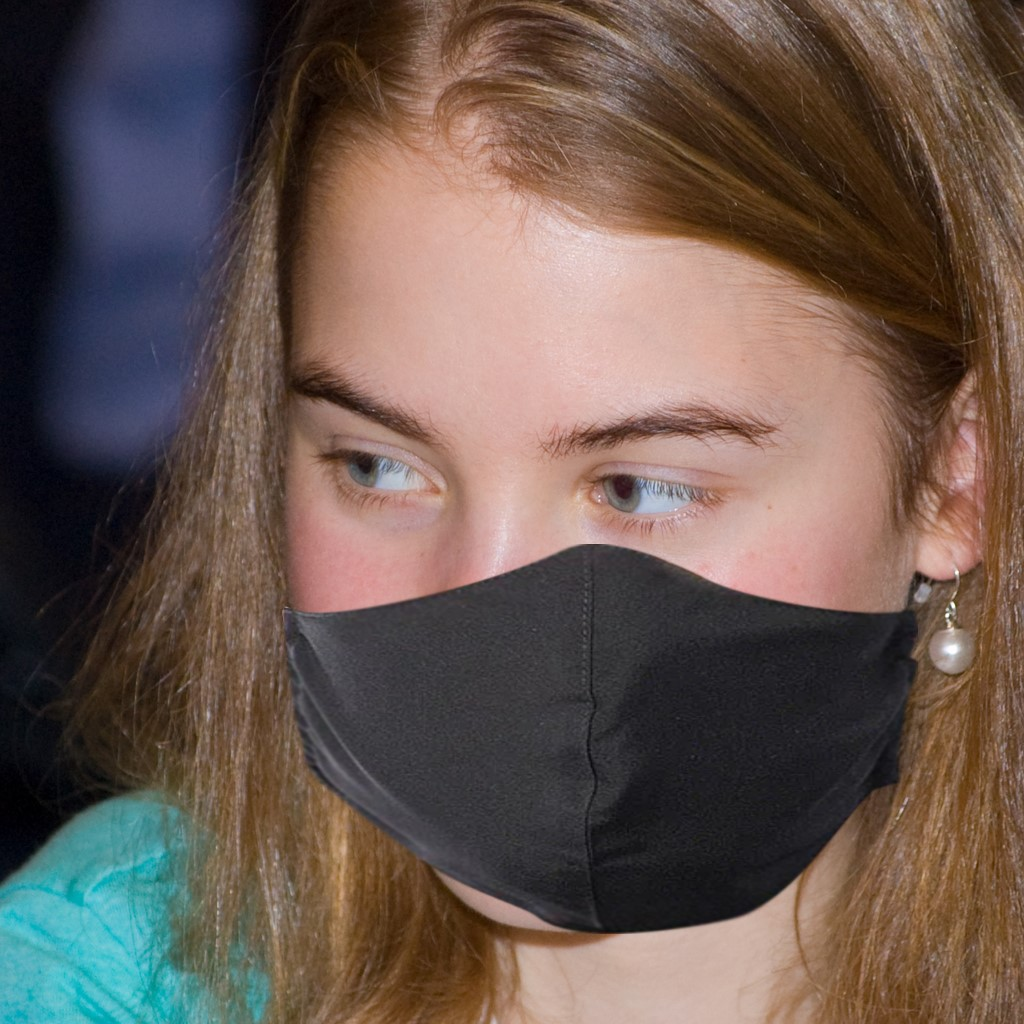con_mascara: (236, 67, 925, 947)
